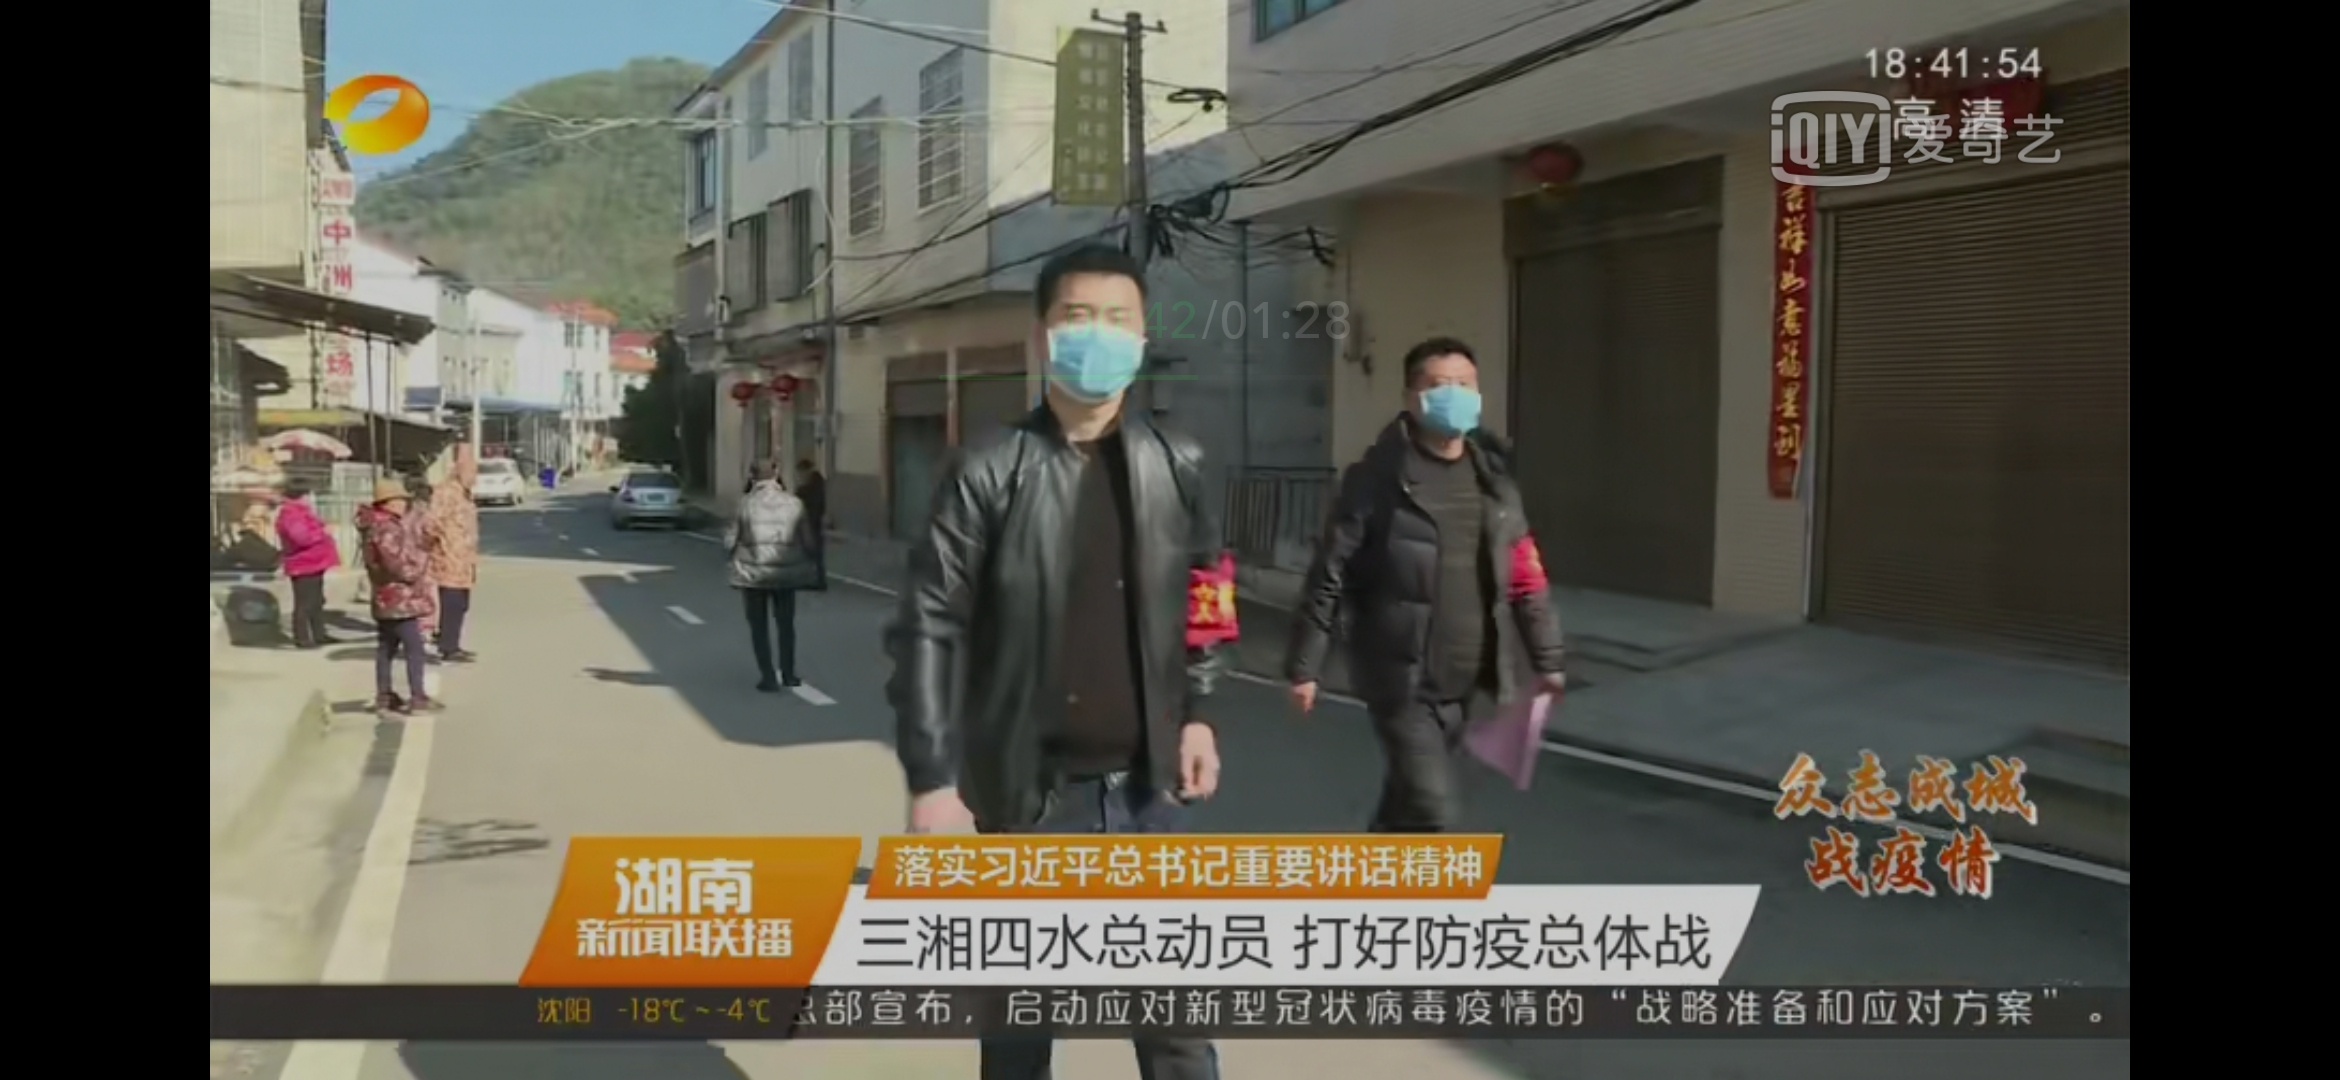correctlyWear: (1039, 289, 1149, 406), (1410, 367, 1483, 437)
